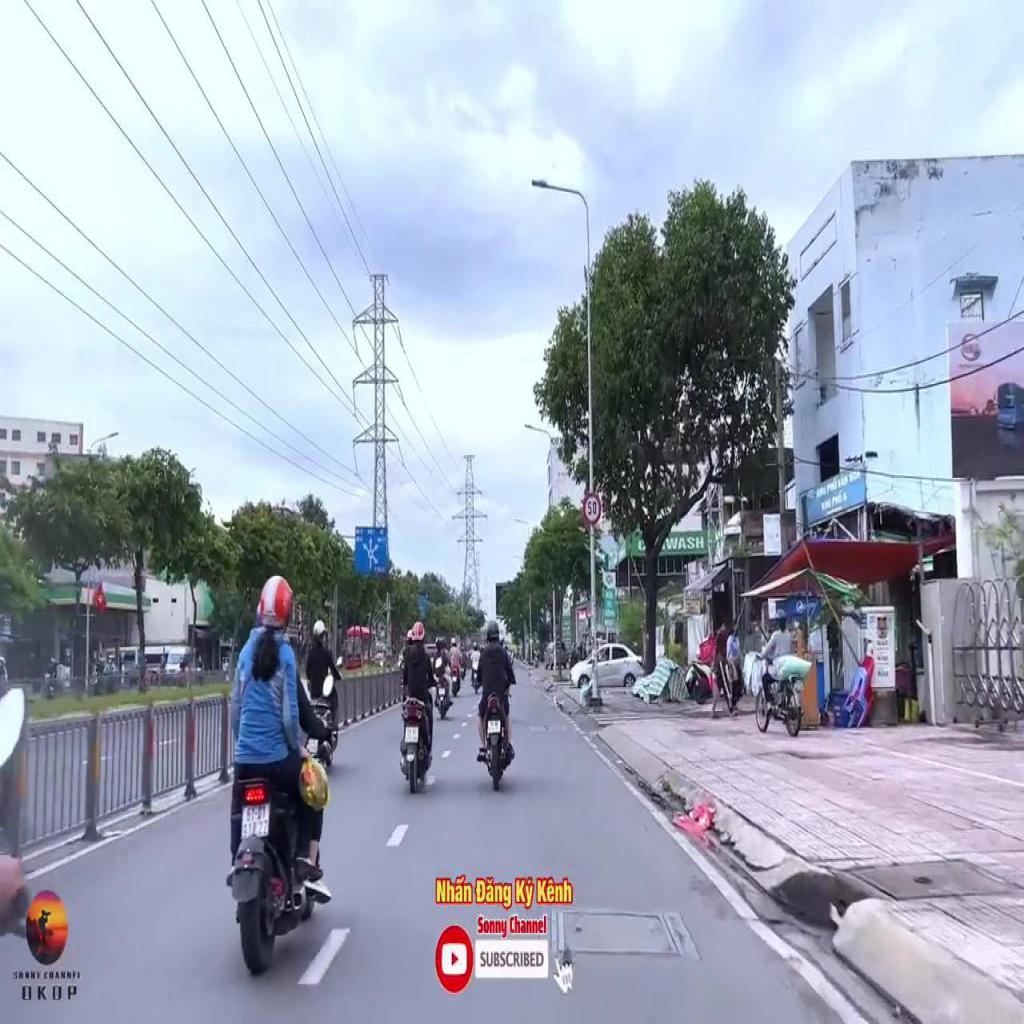khac: (355, 526, 387, 573)
toc_do_toi_da_50: (582, 492, 602, 523)
